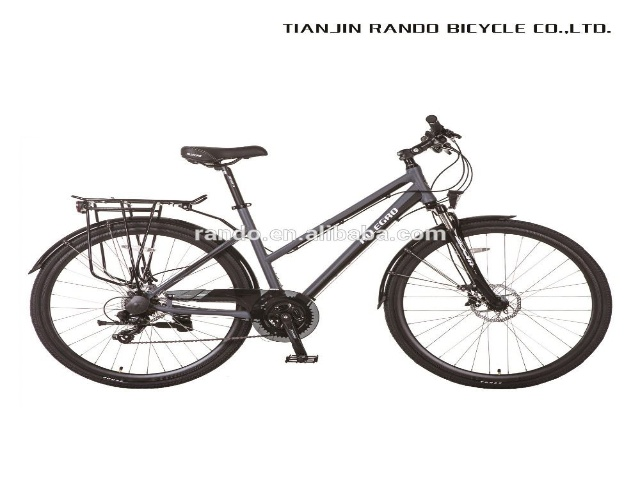bike: (32, 106, 614, 408)
